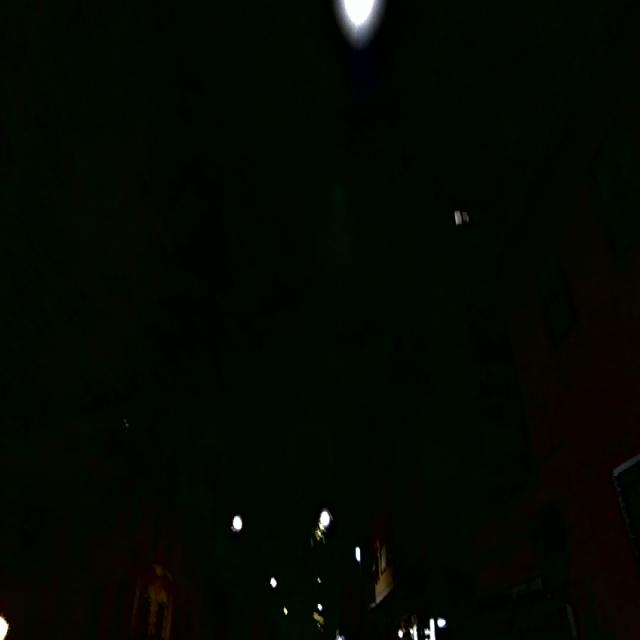lampione: (332, 0, 384, 40), (309, 488, 342, 550), (350, 535, 368, 570), (231, 508, 246, 538), (393, 617, 410, 640), (279, 595, 293, 622), (268, 567, 280, 595), (0, 609, 10, 640), (315, 595, 326, 622)
